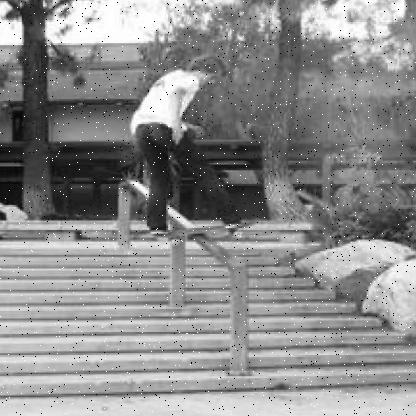stair_up: (14, 289, 351, 416)
